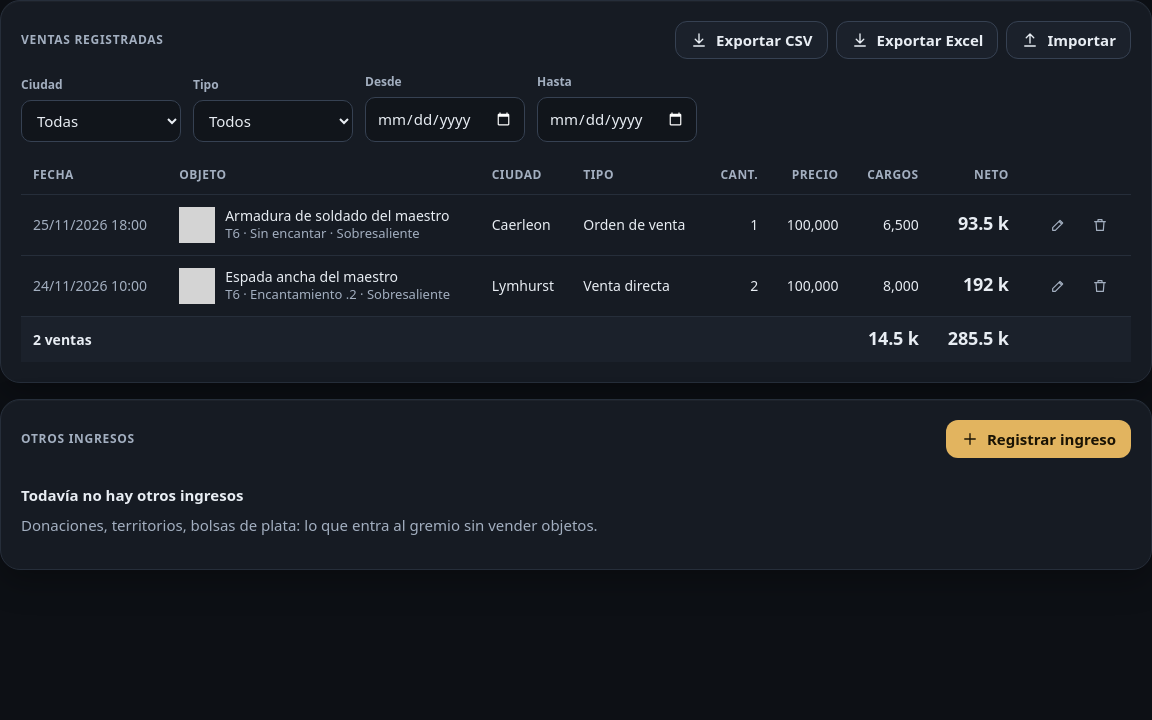
Test: permisos y acciones › el admin corrige el encantamiento que olvidó poner
Expected: the table is shown, x1=21 y1=156 x2=1131 y2=362
Click the button named "corregir venta de espada".
click(1058, 286)  # box x1=1039 y1=272 x2=1077 y2=300
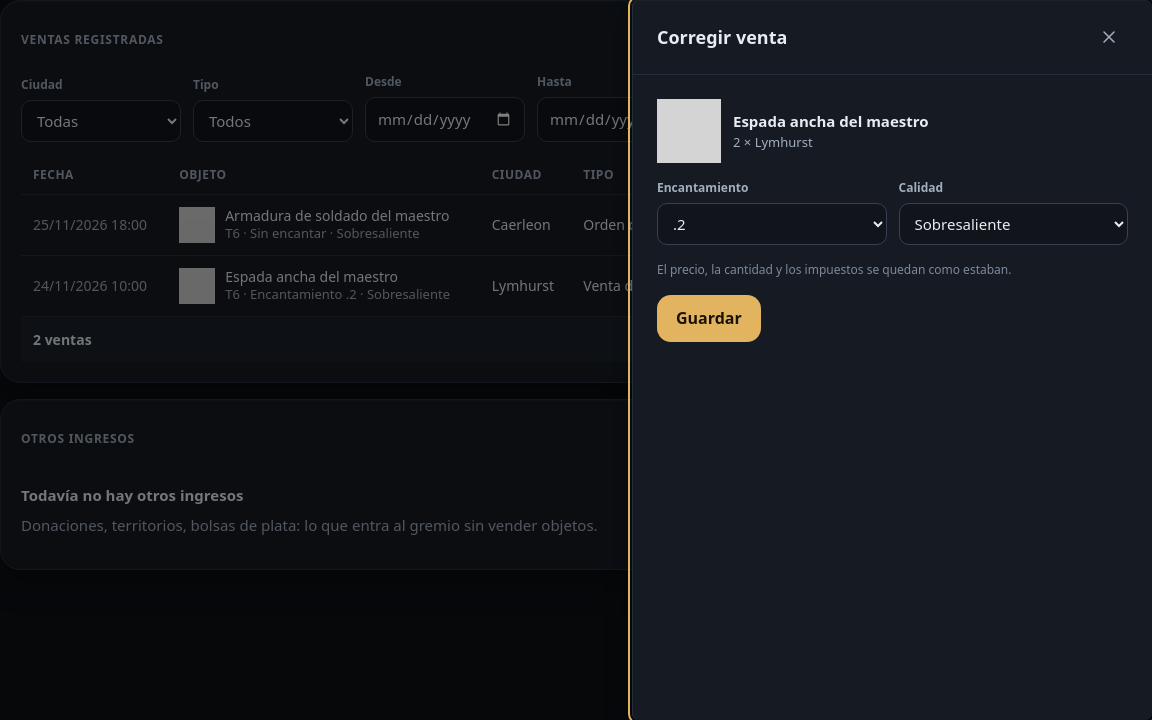
Expected: the dropdown labelled "Encantamiento" shows ".2"
Select ".3" in the dropdown labelled "Encantamiento" at (772, 224), box x1=657 y1=203 x2=886 y2=245
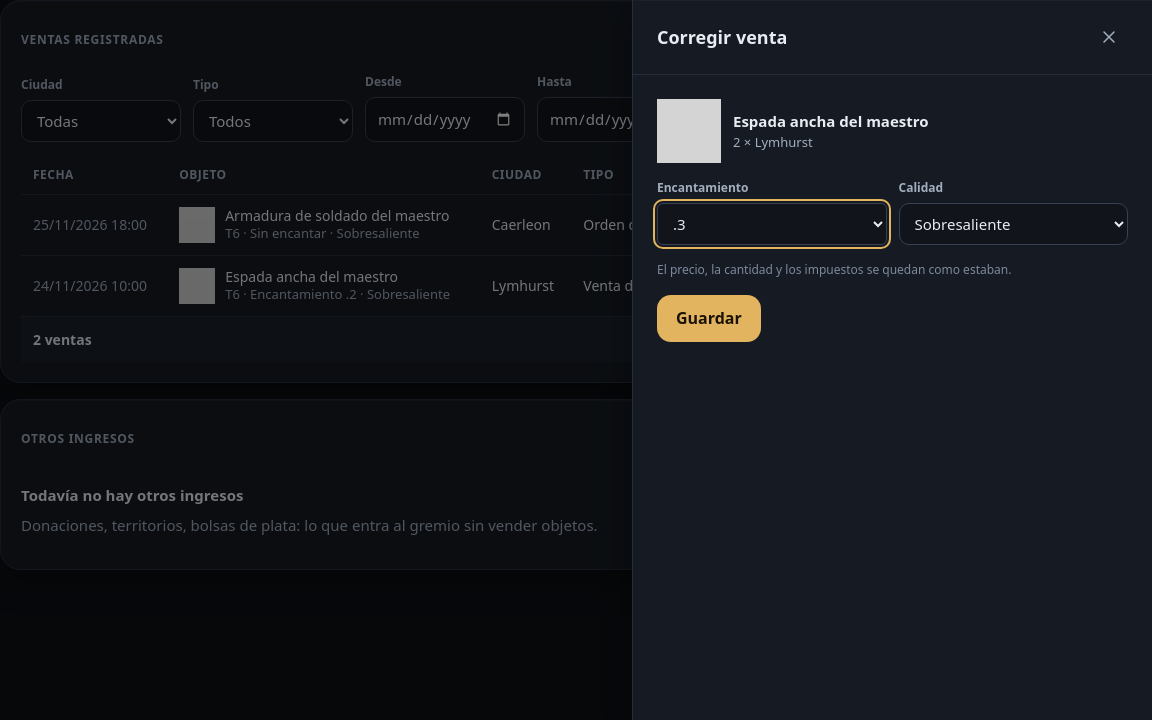
Click the button "Guardar".
click(709, 319)  # box x1=657 y1=295 x2=761 y2=342
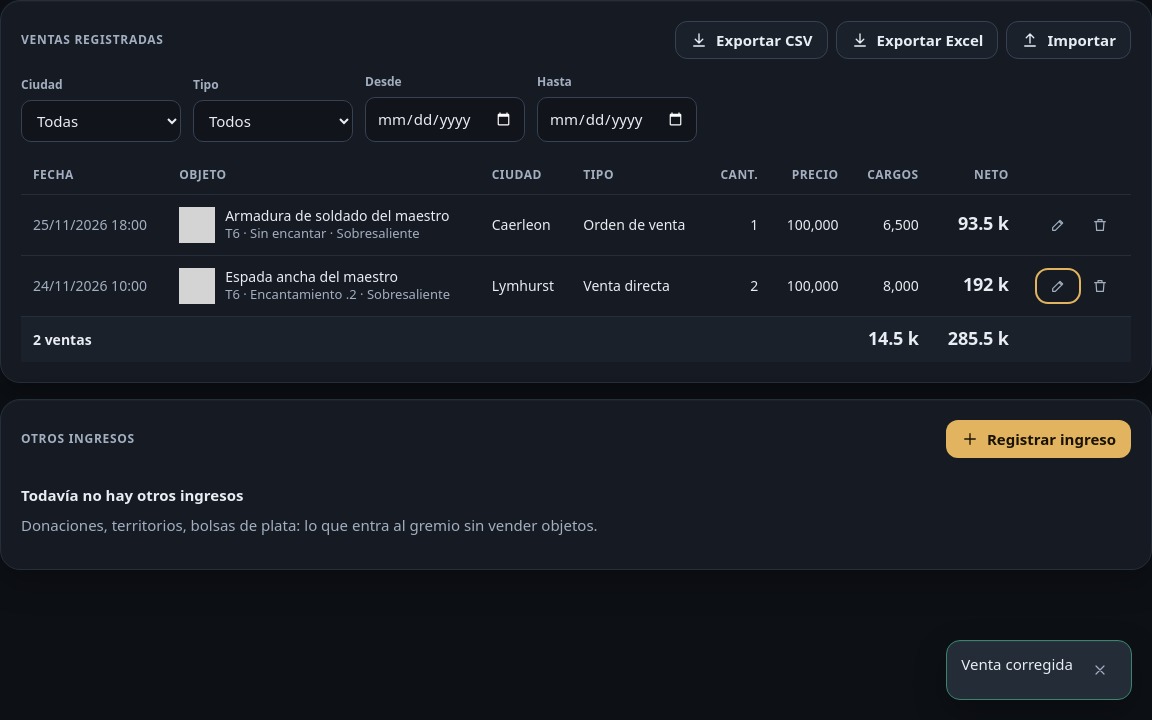
Expected: the text "Venta corregida" is shown, x1=961 y1=653 x2=1073 y2=676
Expected: the heading "Corregir venta" is gone
